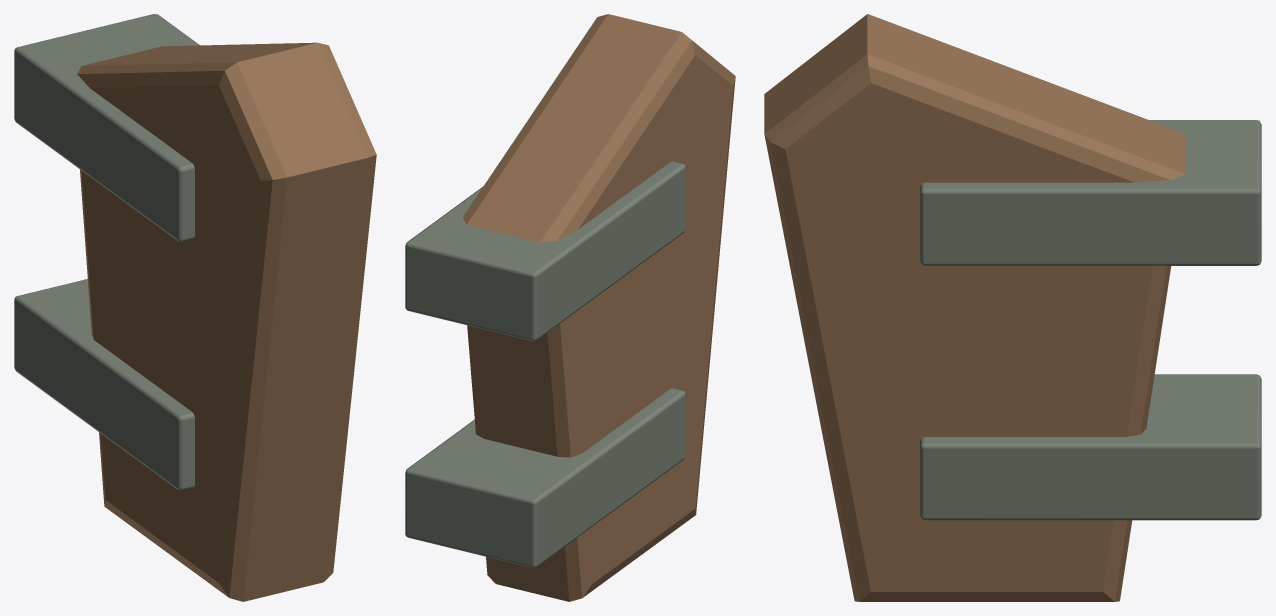
The model's file is fps-weapon-set-and-firing-range-holster-d9a29c31__19530.glb.
3 renders of one model, left to right at view 1: azimuth 30°, elevation 25°; view 2: azimuth 150°, elevation 25°; view 3: azimuth 270°, elevation 25°, orthographic. The views are drawn at different scales.
Parts seen in each view (by area): view 1: holster; view 2: holster; view 3: holster.
Boxes of the visible parts, box(x1,y1,x2,y2) form: holster: box(14, 14, 376, 601); holster: box(405, 14, 735, 601); holster: box(764, 14, 1261, 601).
Bounding box in the file's own units: 0.07 × 0.2473 × 0.2037.
